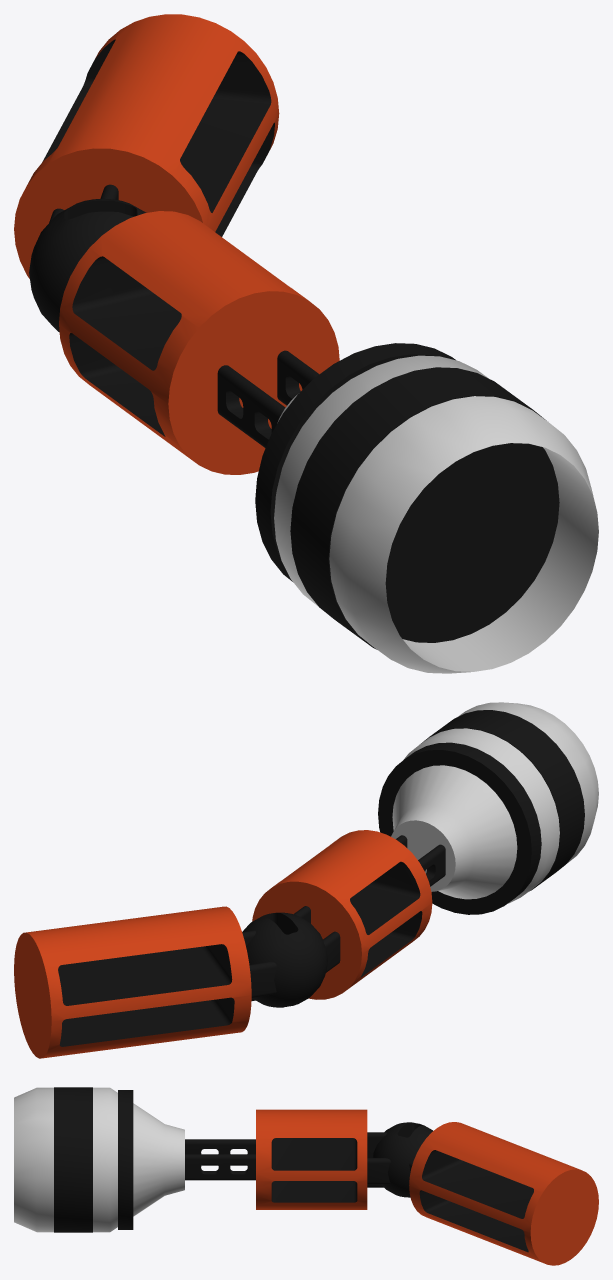
File: Arm.fbx
3 views of the same model, one above another, from view 1: azimuth 30°, elevation 25°; view 2: azimuth 150°, elevation 25°; view 3: azimuth 270°, elevation 25° (orthographic). The views are drawn at different scales.
Parts seen in each view (by area): view 1: Cylinder, Boole_1, Cylinder_1_3, Cylinder_1, Cube_2_3, Cube_2_6, Cylinder_1_2, Sphere, Cube_2_5, Cube_1_2, Cube_3_2, Cube_2_2; view 2: Boole_1, Cylinder_1, Cylinder_1_3, Cylinder_1_2, Cube_2_3, Cylinder, Sphere, Cube_2_2, Cube_2_6, Cube_2_5, Cube_1, Cube_1_2 (+1 smaller); view 3: Boole_1, Cylinder_1, Cylinder_1_3, Cylinder, Cube_2_3, Cube_2_6, Cylinder_1_2, Cube_2_2, Sphere, Cube_2_5, Cube_3_2, Cube_1_2 (+2 smaller).
Boxes of the visible parts, x1,y1,x2,y2 form: Cylinder: (290,367,559,649); Boole_1: (274,355,598,673); Cylinder_1_3: (59,211,339,474); Cylinder_1: (14,14,279,278); Cube_2_3: (42,39,271,212); Cube_2_6: (72,256,181,370); Cylinder_1_2: (255,343,455,581); Sphere: (29,198,146,332); Cube_2_5: (69,333,165,436); Cube_1_2: (217,365,285,447); Cube_3_2: (277,350,319,405); Cube_2_2: (215,122,274,236); Boole_1: (391,702,598,903); Cylinder_1: (14,906,251,1058); Cylinder_1_3: (252,830,432,999); Cylinder_1_2: (378,742,541,914); Cube_2_3: (58,944,232,1005); Cylinder: (421,710,584,891); Sphere: (242,912,327,1007); Cube_2_2: (59,997,234,1046); Cube_2_6: (350,861,420,934); Cube_2_5: (360,911,422,977); Cube_1: (249,962,276,997); Cube_1_2: (418,844,445,886); Boole_1: (14,1087,184,1232); Cylinder_1: (409,1122,598,1265); Cylinder_1_3: (256,1109,367,1209); Cylinder: (54,1087,92,1232); Cube_2_3: (422,1150,533,1218); Cube_2_6: (271,1138,357,1170); Cylinder_1_2: (118,1090,133,1229); Cube_2_2: (419,1190,528,1252); Sphere: (372,1122,432,1197); Cube_2_5: (271,1181,357,1202); Cube_3_2: (185,1154,255,1180); Cube_1_2: (185,1139,255,1165).
Bounding box in the file's own units: 35.76 × 21.2 × 84.98.
